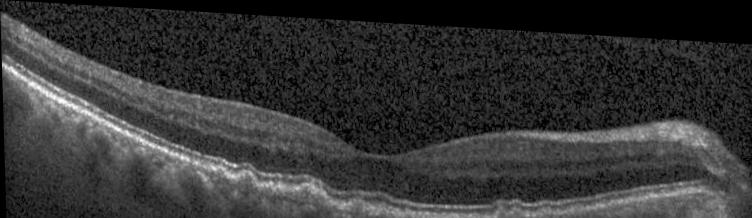retinal_drusen: (283, 182, 337, 203), (496, 203, 524, 217), (342, 196, 369, 209), (235, 169, 255, 185), (377, 203, 396, 215), (210, 164, 226, 177), (257, 182, 273, 192), (402, 208, 412, 217), (273, 184, 282, 193)
